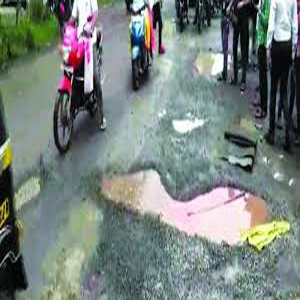pothole: (91, 158, 284, 262), (192, 45, 232, 87), (170, 114, 215, 137)
